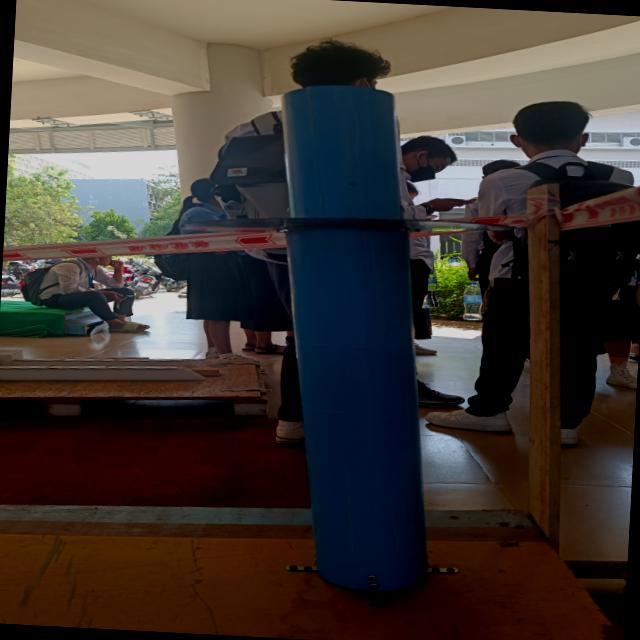pole: (163, 68, 518, 373)
